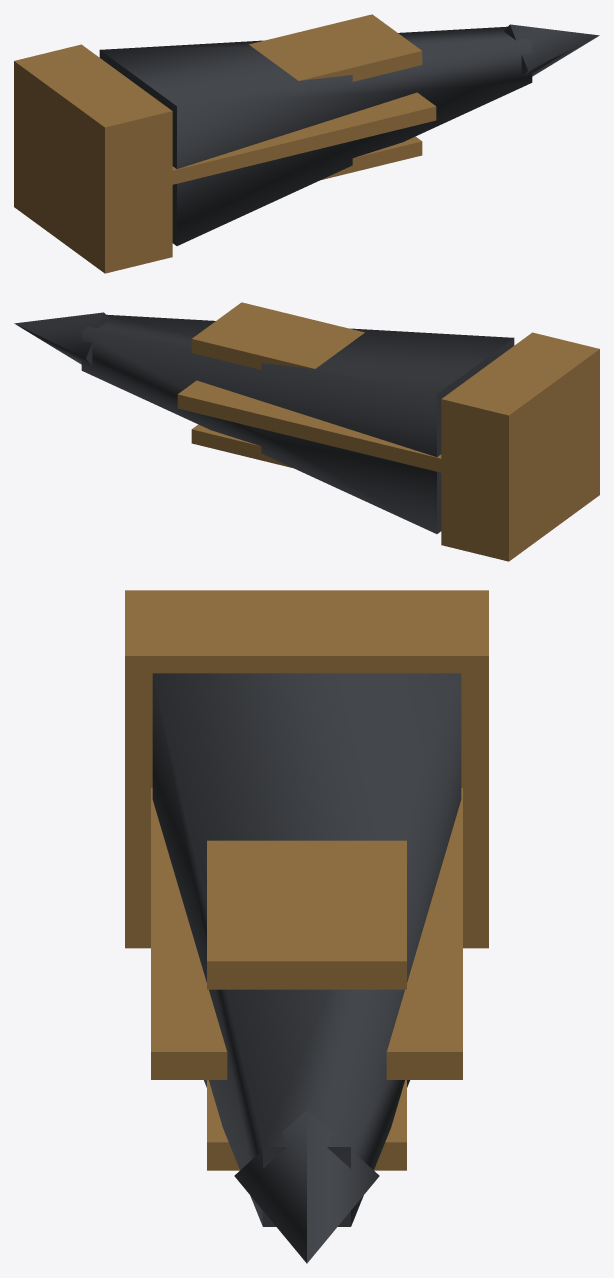
Rendered from mount-ram.glb.
The picture shows the model from 3 angles, top to bottom: view 1: azimuth 30°, elevation 25°; view 2: azimuth 150°, elevation 25°; view 3: azimuth 270°, elevation 25°; orthographic projection. The views are drawn at different scales.
Parts seen in each view (by area): view 1: Mesh_Beak, Mesh_Collar, Mesh_Fin0, Mesh_Fin1, Mesh_Tip, Mesh_Fin2; view 2: Mesh_Beak, Mesh_Collar, Mesh_Fin0, Mesh_Fin1, Mesh_Tip, Mesh_Fin2; view 3: Mesh_Beak, Mesh_Collar, Mesh_Fin0, Mesh_Fin1, Mesh_Tip, Mesh_Fin2.
Boxes of the visible parts, <box> form: Mesh_Beak: <box>99,26,532,245</box>; Mesh_Collar: <box>14,44,172,273</box>; Mesh_Fin0: <box>249,14,422,81</box>; Mesh_Fin1: <box>172,92,436,184</box>; Mesh_Tip: <box>503,24,599,77</box>; Mesh_Fin2: <box>321,136,422,179</box>; Mesh_Beak: <box>81,314,514,533</box>; Mesh_Collar: <box>441,332,599,561</box>; Mesh_Fin0: <box>191,302,364,369</box>; Mesh_Fin1: <box>177,380,441,472</box>; Mesh_Tip: <box>14,312,110,365</box>; Mesh_Fin2: <box>191,424,292,467</box>; Mesh_Beak: <box>152,673,461,1226</box>; Mesh_Collar: <box>125,590,488,948</box>; Mesh_Fin0: <box>207,840,406,989</box>; Mesh_Fin1: <box>151,788,462,1079</box>; Mesh_Tip: <box>234,1110,379,1263</box>; Mesh_Fin2: <box>207,1080,406,1170</box>.
Bounding box in the file's own units: 2.4 × 0.62 × 0.7.
